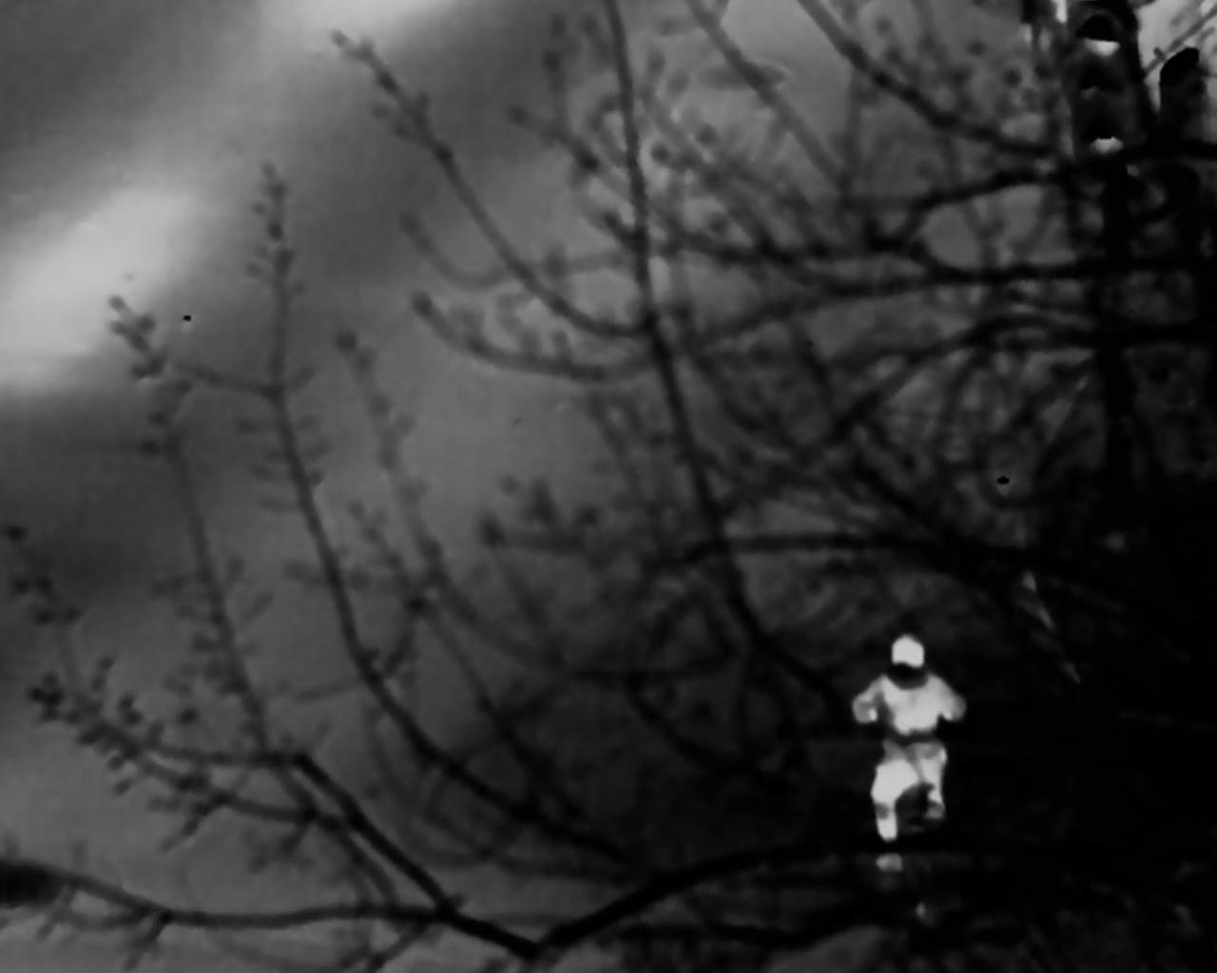person: (850, 631, 959, 865)
